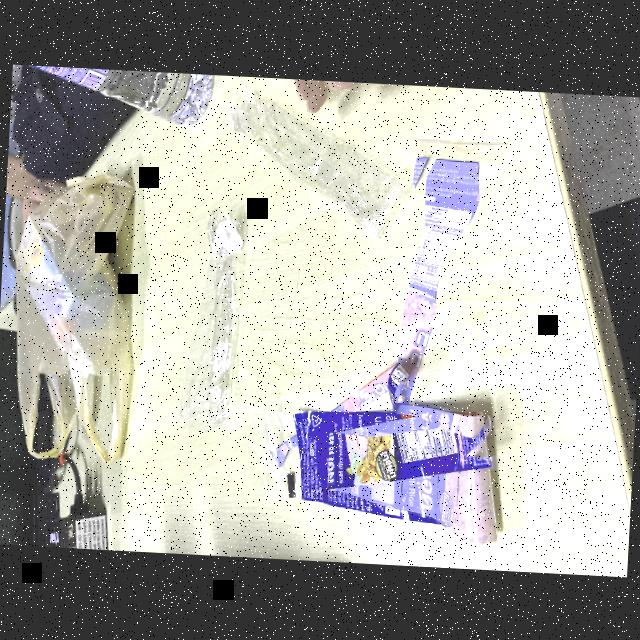scrap_plastic: (249, 368, 525, 542), (212, 80, 410, 240), (170, 206, 259, 440)
